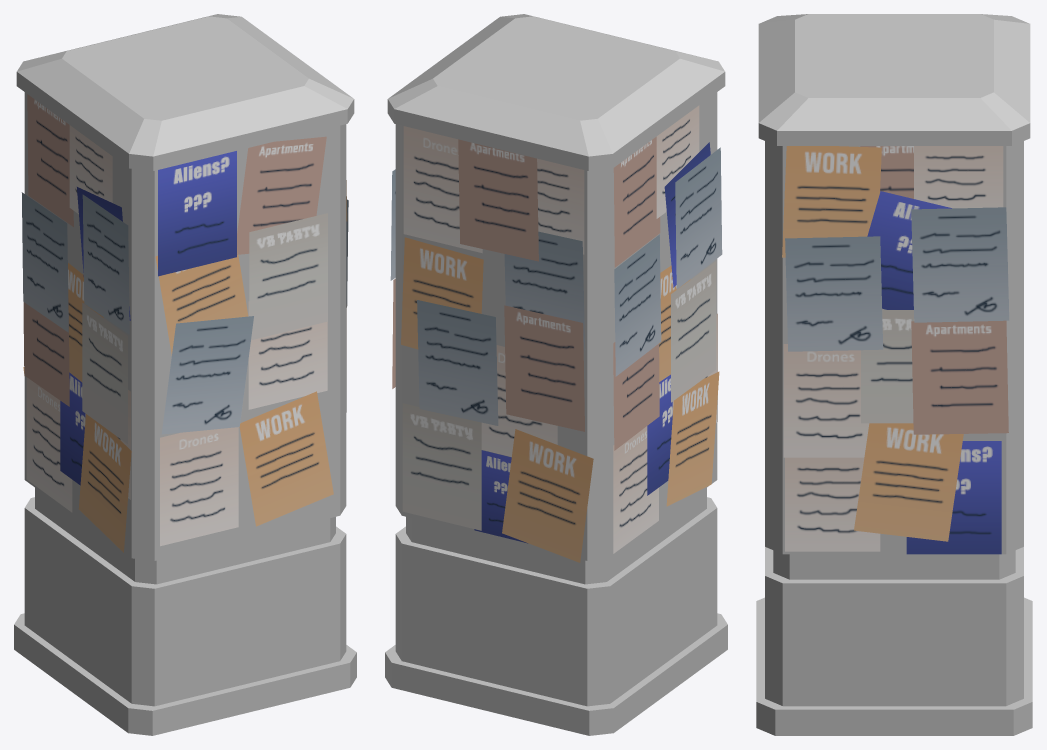
The model's file is SM_Props_Ads_03.fbx.
The picture shows the model from 3 angles, left to right: view 1: azimuth 30°, elevation 25°; view 2: azimuth 150°, elevation 25°; view 3: azimuth 270°, elevation 25°; orthographic projection. The views are drawn at different scales.
Visible parts, largest first — view 1: SM_Props_Ads_03; view 2: SM_Props_Ads_03; view 3: SM_Props_Ads_03.
Boxes of the visible parts, bbox=[...] form: SM_Props_Ads_03: bbox=[14, 14, 356, 735]; SM_Props_Ads_03: bbox=[385, 14, 727, 735]; SM_Props_Ads_03: bbox=[756, 14, 1032, 735].
Bounding box in the file's own units: 84.04 × 209 × 84.04.
